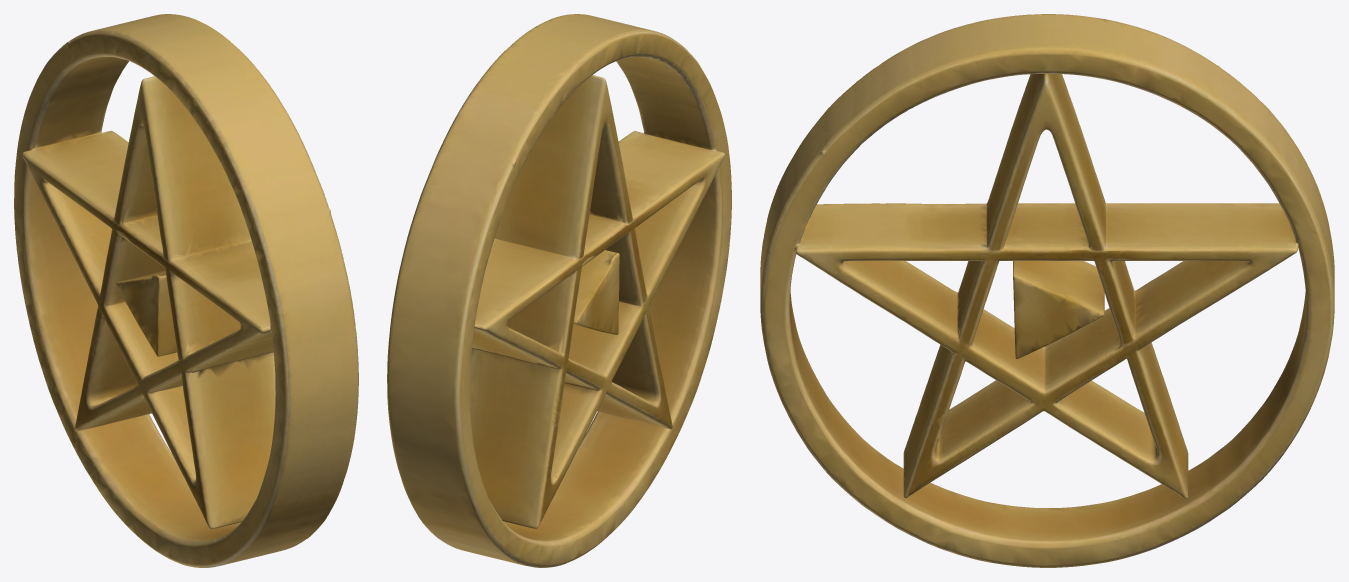
File: star.glb
3 renders of one model, left to right at view 1: azimuth 30°, elevation 25°; view 2: azimuth 150°, elevation 25°; view 3: azimuth 270°, elevation 25°, orthographic. The views are drawn at different scales.
Visible parts, largest first — view 1: tripo_node_b0ed7e10-36ca-4b9c-bff1-cbb00cbb382e; view 2: tripo_node_b0ed7e10-36ca-4b9c-bff1-cbb00cbb382e; view 3: tripo_node_b0ed7e10-36ca-4b9c-bff1-cbb00cbb382e.
Boxes of the visible parts, x1,y1,x2,y2 form: tripo_node_b0ed7e10-36ca-4b9c-bff1-cbb00cbb382e: [14, 14, 358, 567]; tripo_node_b0ed7e10-36ca-4b9c-bff1-cbb00cbb382e: [387, 14, 731, 567]; tripo_node_b0ed7e10-36ca-4b9c-bff1-cbb00cbb382e: [760, 14, 1334, 567].
Size of the model in its own units: 0.1954 by 0.9999 by 1.
1 material, 1 textured.
